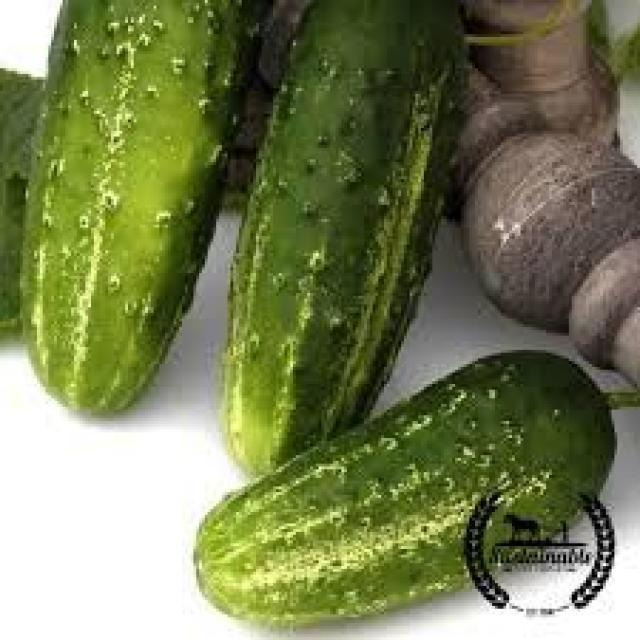cucumber: (218, 0, 472, 470), (194, 353, 610, 631), (18, 0, 270, 421)
